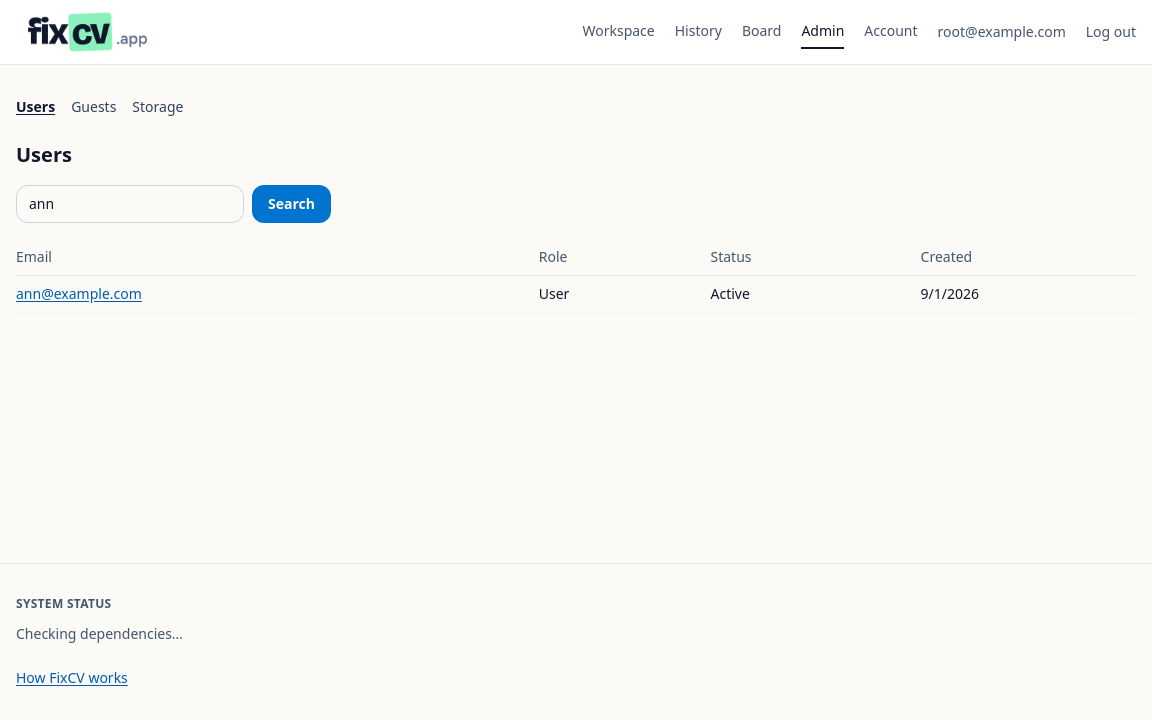
Test: /admin user list — AC-32 search › clearing the box and submitting shows everyone again
Expected: the link "ann@example.com" is shown, [16, 284, 142, 303]
Expected: the link "bob@example.com" is not shown
Step 1. Clear the search field named "Search by email" → [130, 204], box [16, 185, 244, 223]
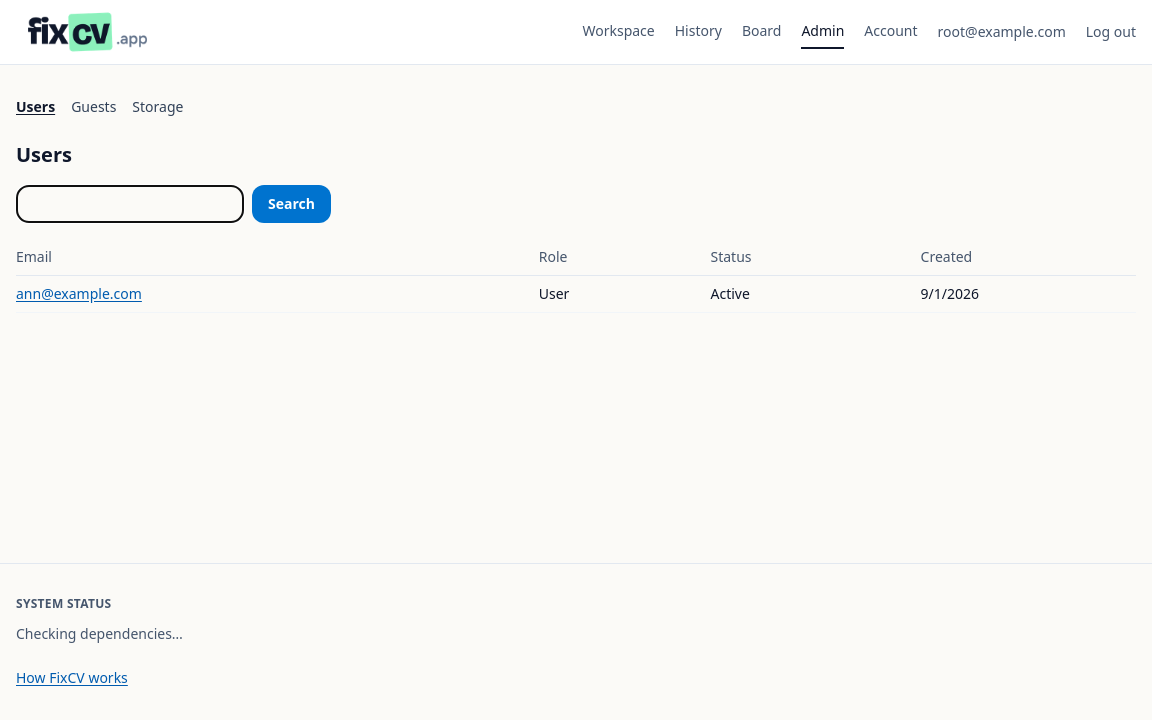
Step 2. Click the button "Search" → [291, 204], box [252, 185, 331, 223]
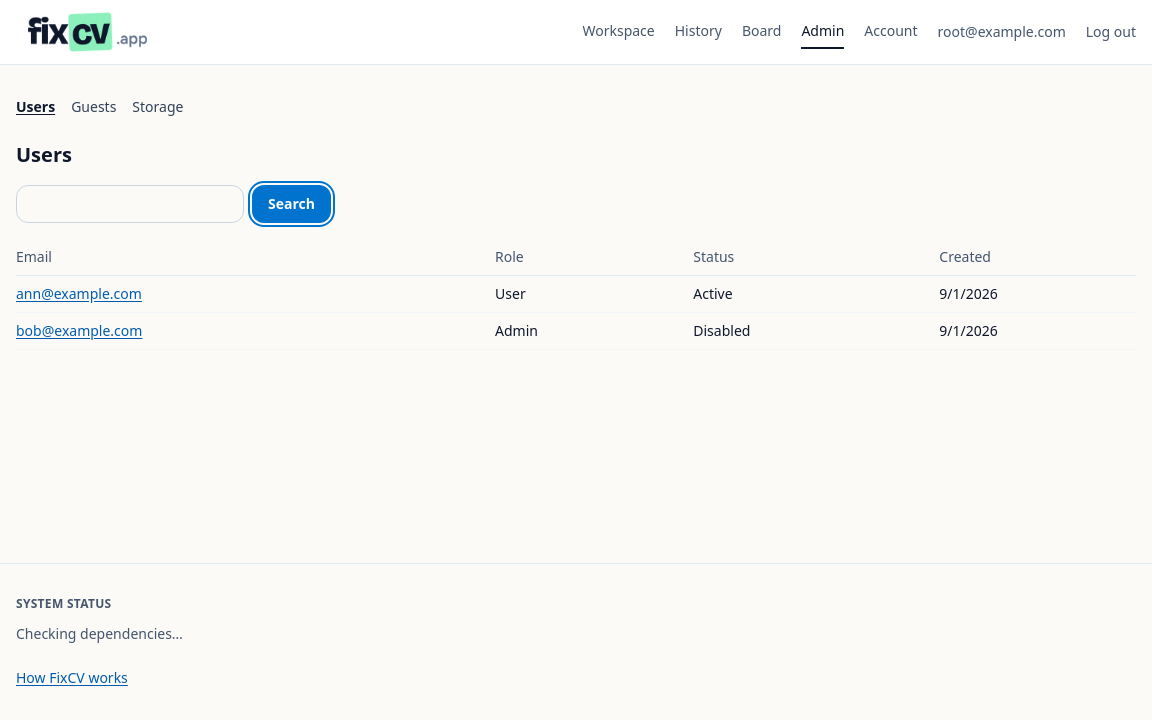
Expected: the link "bob@example.com" is shown, [16, 321, 142, 340]
